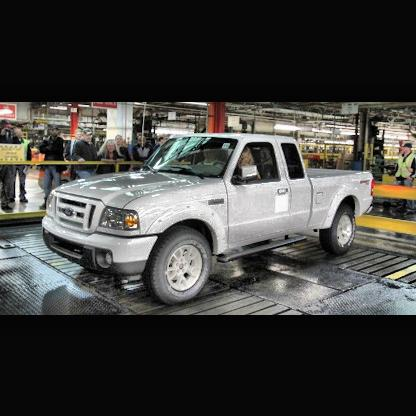Ford Ranger SuperCab 2011: (40, 132, 378, 301)
